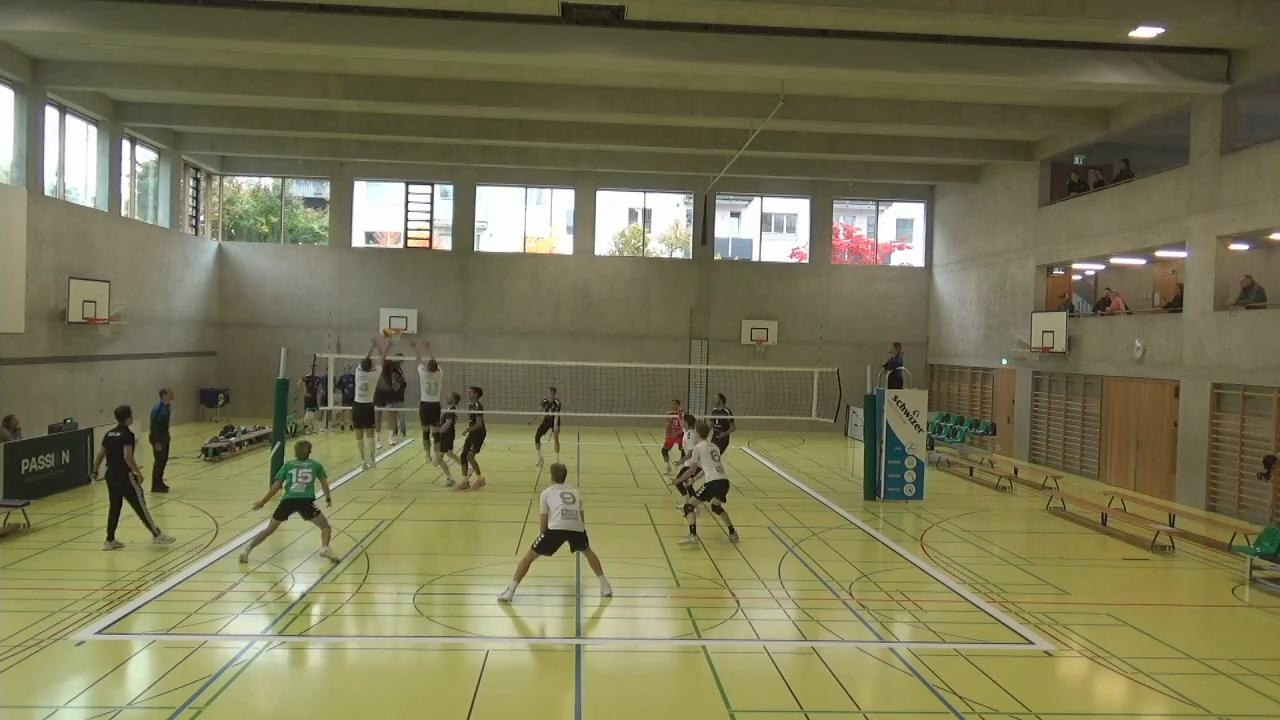attacco: (375, 336, 405, 453)
muro: (349, 328, 389, 471), (408, 328, 445, 474)
